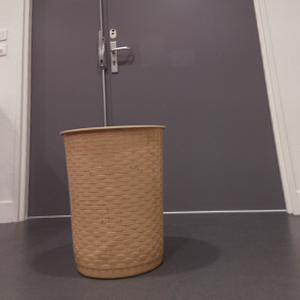medium: (59, 124, 172, 278)
